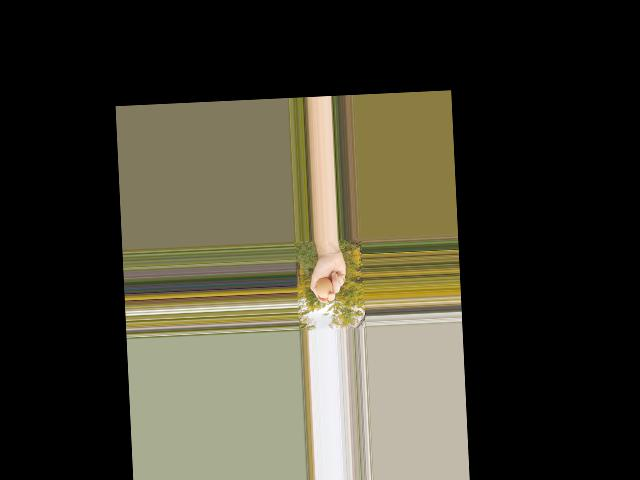egg: (316, 277, 334, 298)
